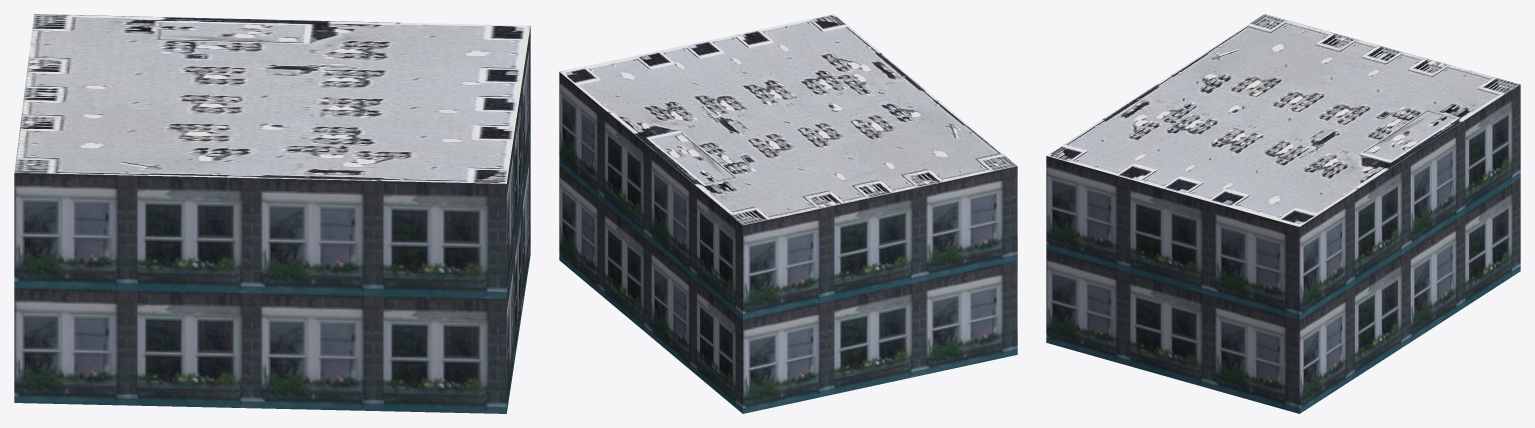
Rendered from ResTex__73.fbx.
3 renders of one model, left to right at view 1: azimuth 30°, elevation 25°; view 2: azimuth 150°, elevation 25°; view 3: azimuth 270°, elevation 25°, orthographic. The views are drawn at different scales.
Parts seen in each view (by area): view 1: CityEngineMaterial_11_m, CityEngineMaterial_4_m; view 2: CityEngineMaterial_11_m, CityEngineMaterial_4_m; view 3: CityEngineMaterial_11_m, CityEngineMaterial_4_m.
Boxes of the visible parts, x1,y1,x2,y2 form: CityEngineMaterial_11_m: [14, 26, 530, 413]; CityEngineMaterial_4_m: [14, 14, 530, 183]; CityEngineMaterial_11_m: [559, 72, 1017, 413]; CityEngineMaterial_4_m: [560, 14, 1017, 225]; CityEngineMaterial_11_m: [1046, 84, 1520, 413]; CityEngineMaterial_4_m: [1046, 14, 1520, 226].
Bounding box in the file's own units: 14.67 × 6 × 13.81.
Materials: 2 (2 with a texture image).
